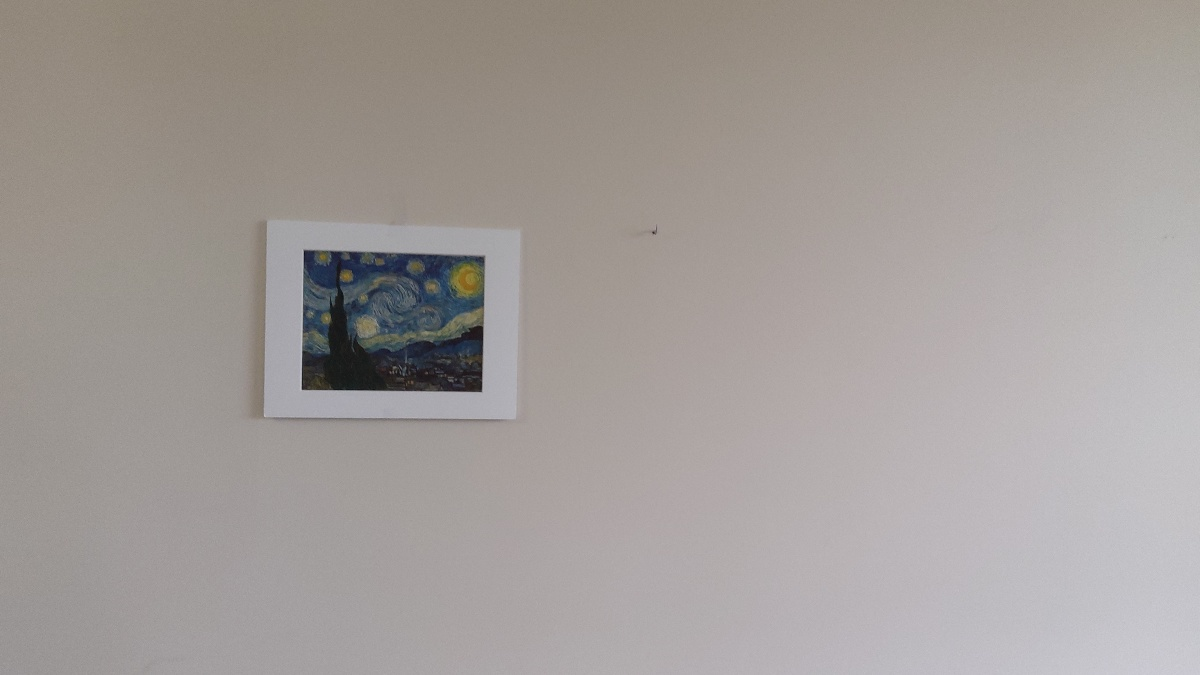painting: (293, 245, 496, 397)
